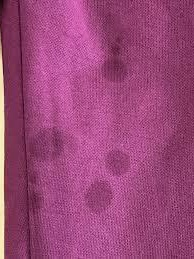oil: (29, 135, 68, 162), (104, 45, 132, 81), (85, 183, 115, 216), (30, 167, 50, 212), (107, 148, 125, 173)
